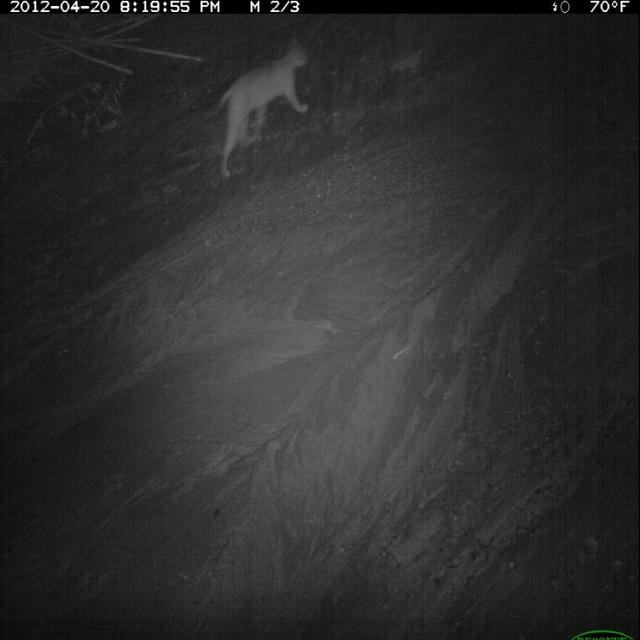bobcat: (213, 31, 315, 181)
